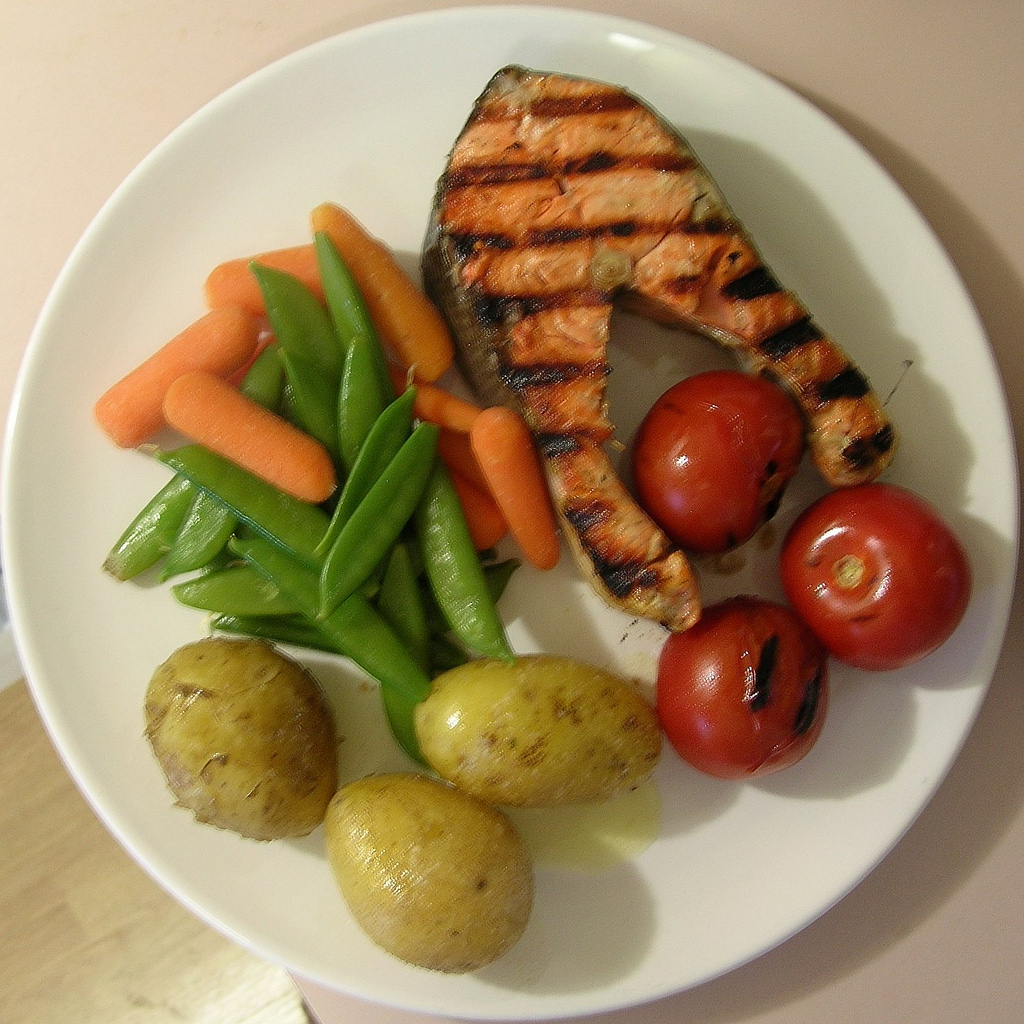boiled potatoes: (321, 771, 538, 988), (148, 627, 337, 870), (418, 666, 671, 820)
